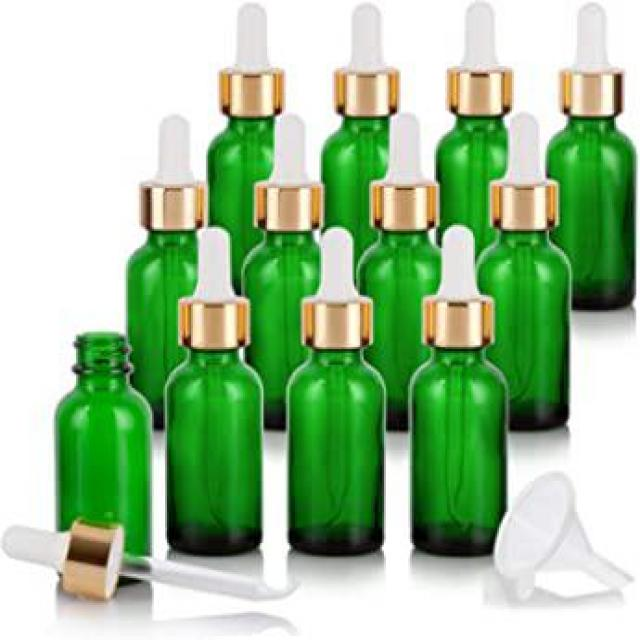non-organic waste: (285, 215, 387, 560), (167, 220, 262, 562)
